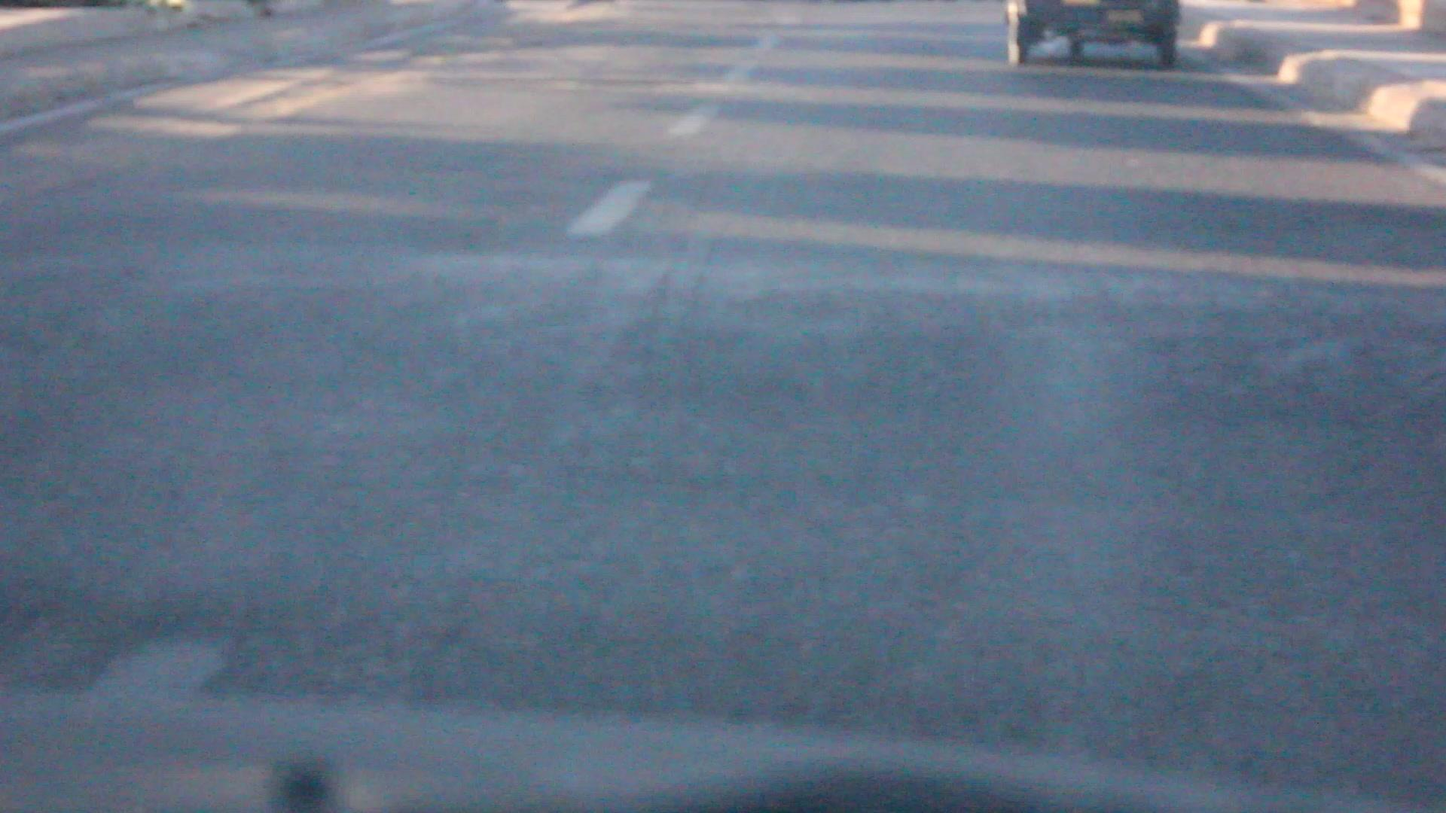Bump: (0, 237, 1445, 536)
